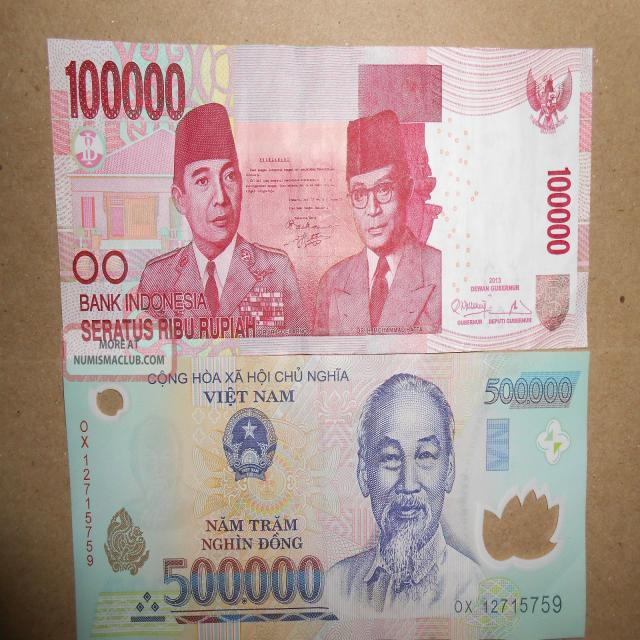seratus ribu rupiah: (48, 36, 596, 348)
